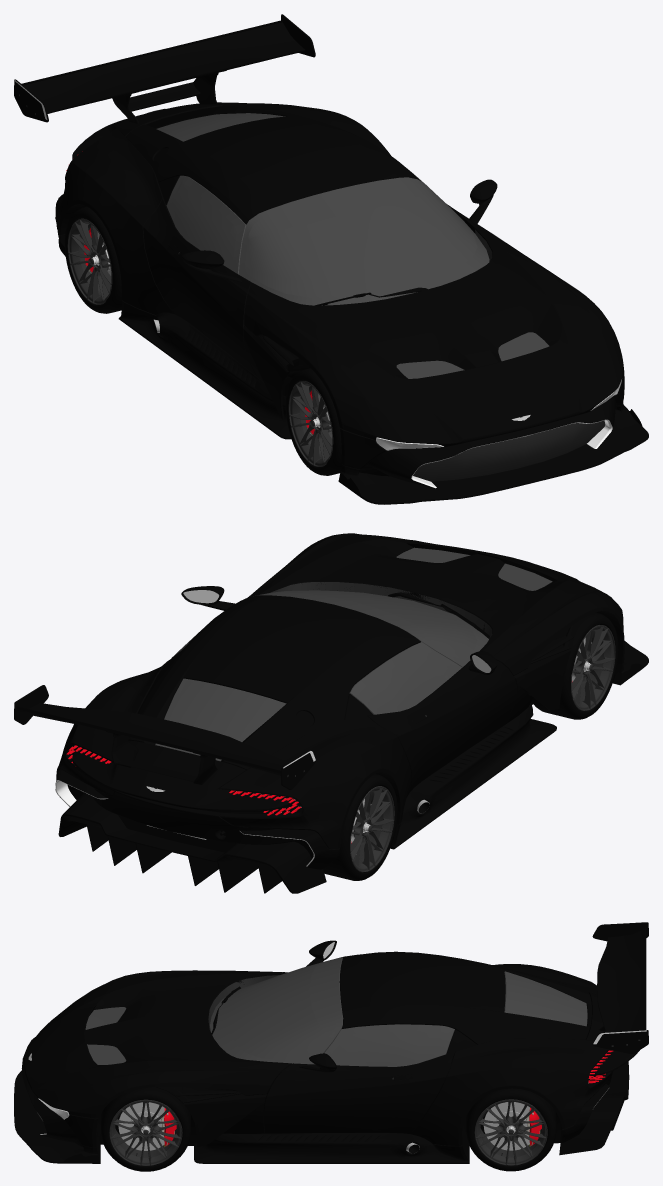
File: Vulcan.fbx
The picture shows the model from 3 angles, top to bottom: view 1: azimuth 30°, elevation 25°; view 2: azimuth 150°, elevation 25°; view 3: azimuth 270°, elevation 25°; orthographic projection. The views are drawn at different scales.
Visible parts, largest first — view 1: LOD_A_HOOD_mm_ext.001, LOD_A_GLASS_FRONT_mm_windows.001, LOD_A_BODY_mm_misc.001, LOD_A_BODY_mm_ext.001, LOD_A_BOOT_mm_misc.001, LOD_A_FRONTBUMPER_mm_misc.001, LOD_A_DOOR_RIGHT_mm_ext.001, LOD_A_FRONTBUMPER_mm_badges.001, RIM_RR, RIM_FR, WHEEL_RR, WHEEL_FR (+1 smaller); view 2: LOD_A_BODY_mm_misc.001, LOD_A_BODY_mm_ext.001, LOD_A_HOOD_mm_ext.001, LOD_A_GLASS_FRONT_mm_windows.001, LOD_A_REARBUMPER_mm_misc.001, LOD_A_DOOR_RIGHT_mm_ext.001, LOD_A_BOOT_mm_misc.001, RIM_RR, RIM_FR, WHEEL_RR, WHEEL_FR, LOD_A_INT_BODY_mm_int.001 (+4 smaller); view 3: LOD_A_BODY_mm_misc.001, LOD_A_HOOD_mm_ext.001, LOD_A_GLASS_FRONT_mm_windows.001, LOD_A_BODY_mm_ext.001, LOD_A_DOOR_LEFT_mm_ext.001, LOD_A_BOOT_mm_misc.001, LOD_A_FRONTBUMPER_mm_misc.001, WHEEL_FL, WHEEL_RL, LOD_A_REARBUMPER_mm_misc.001, RIM_FL, RIM_RL (+3 smaller).
Part boxes in pixels (bbox=[...]): LOD_A_HOOD_mm_ext.001: bbox=[244, 228, 624, 469]; LOD_A_GLASS_FRONT_mm_windows.001: bbox=[156, 113, 489, 305]; LOD_A_BODY_mm_misc.001: bbox=[72, 102, 420, 439]; LOD_A_BODY_mm_ext.001: bbox=[56, 103, 390, 419]; LOD_A_BOOT_mm_misc.001: bbox=[14, 14, 315, 123]; LOD_A_FRONTBUMPER_mm_misc.001: bbox=[338, 396, 648, 504]; LOD_A_DOOR_RIGHT_mm_ext.001: bbox=[143, 198, 256, 376]; LOD_A_FRONTBUMPER_mm_badges.001: bbox=[413, 420, 605, 481]; RIM_RR: bbox=[67, 218, 112, 304]; RIM_FR: bbox=[288, 381, 333, 466]; WHEEL_RR: bbox=[64, 206, 121, 313]; WHEEL_FR: bbox=[285, 368, 341, 475]; LOD_A_BODY_mm_misc.001: bbox=[72, 595, 583, 849]; LOD_A_BODY_mm_ext.001: bbox=[56, 648, 570, 849]; LOD_A_HOOD_mm_ext.001: bbox=[248, 533, 624, 675]; LOD_A_GLASS_FRONT_mm_windows.001: bbox=[155, 590, 488, 761]; LOD_A_REARBUMPER_mm_misc.001: bbox=[55, 769, 339, 893]; LOD_A_DOOR_RIGHT_mm_ext.001: bbox=[367, 660, 516, 791]; LOD_A_BOOT_mm_misc.001: bbox=[14, 685, 315, 789]; RIM_RR: bbox=[350, 786, 394, 872]; RIM_FR: bbox=[571, 625, 615, 710]; WHEEL_RR: bbox=[323, 774, 397, 880]; WHEEL_FR: bbox=[532, 612, 618, 719]; LOD_A_INT_BODY_mm_int.001: bbox=[271, 582, 492, 639]; LOD_A_BODY_mm_misc.001: bbox=[156, 951, 639, 1163]; LOD_A_HOOD_mm_ext.001: bbox=[24, 970, 291, 1147]; LOD_A_GLASS_FRONT_mm_windows.001: bbox=[210, 957, 587, 1066]; LOD_A_BODY_mm_ext.001: bbox=[183, 964, 612, 1147]; LOD_A_DOOR_LEFT_mm_ext.001: bbox=[263, 1051, 454, 1133]; LOD_A_BOOT_mm_misc.001: bbox=[592, 922, 648, 1053]; LOD_A_FRONTBUMPER_mm_misc.001: bbox=[14, 1052, 100, 1163]; WHEEL_FL: bbox=[101, 1087, 190, 1171]; WHEEL_RL: bbox=[466, 1088, 556, 1171]; LOD_A_REARBUMPER_mm_misc.001: bbox=[554, 1061, 629, 1155]; RIM_FL: bbox=[109, 1099, 182, 1165]; RIM_RL: bbox=[474, 1099, 547, 1165].
Size of the model in its own units: 214 by 112 by 456.
Materials: 17 (15 with a texture image).
